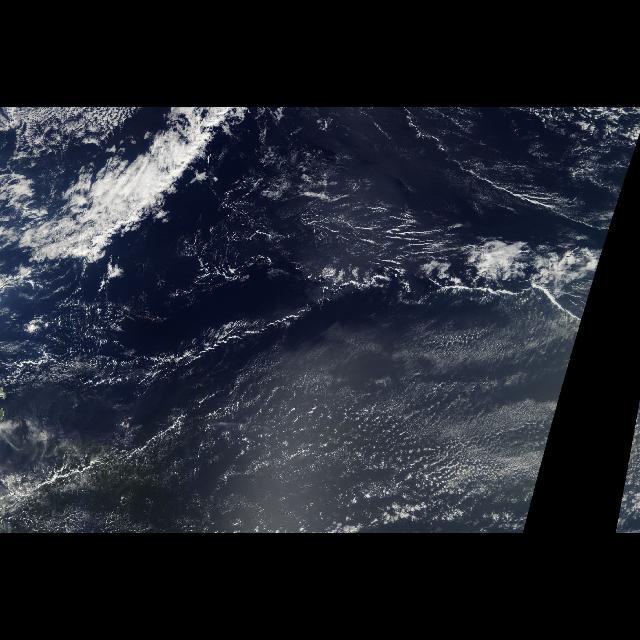Fish: (247, 150, 573, 332), (6, 118, 228, 308)
Gravel: (203, 163, 487, 299)
Sugar: (132, 314, 584, 528), (624, 394, 640, 484)
